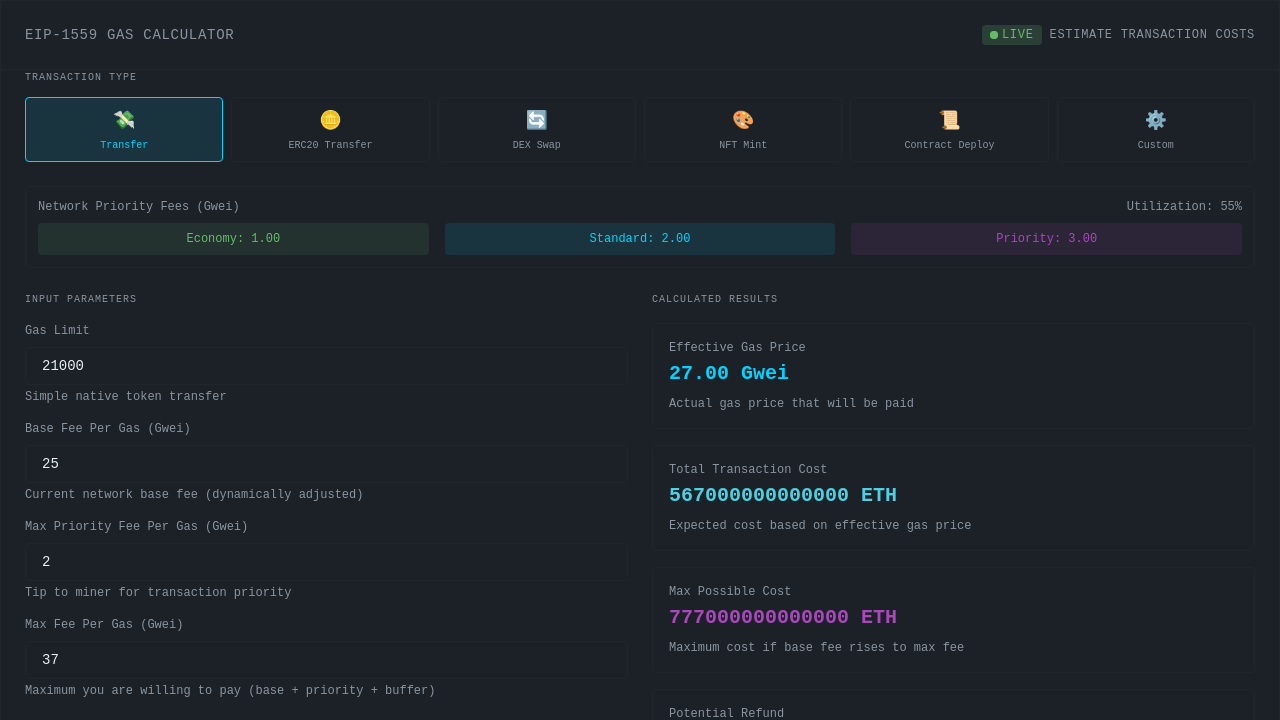
Test case: GasCalculator › User Interactions › switches gas limit when selecting ERC20 Transfer preset
Step 1. Click the button titled "Token transfer" → point(330, 130), box top-left (231, 97), bottom-right (430, 162)
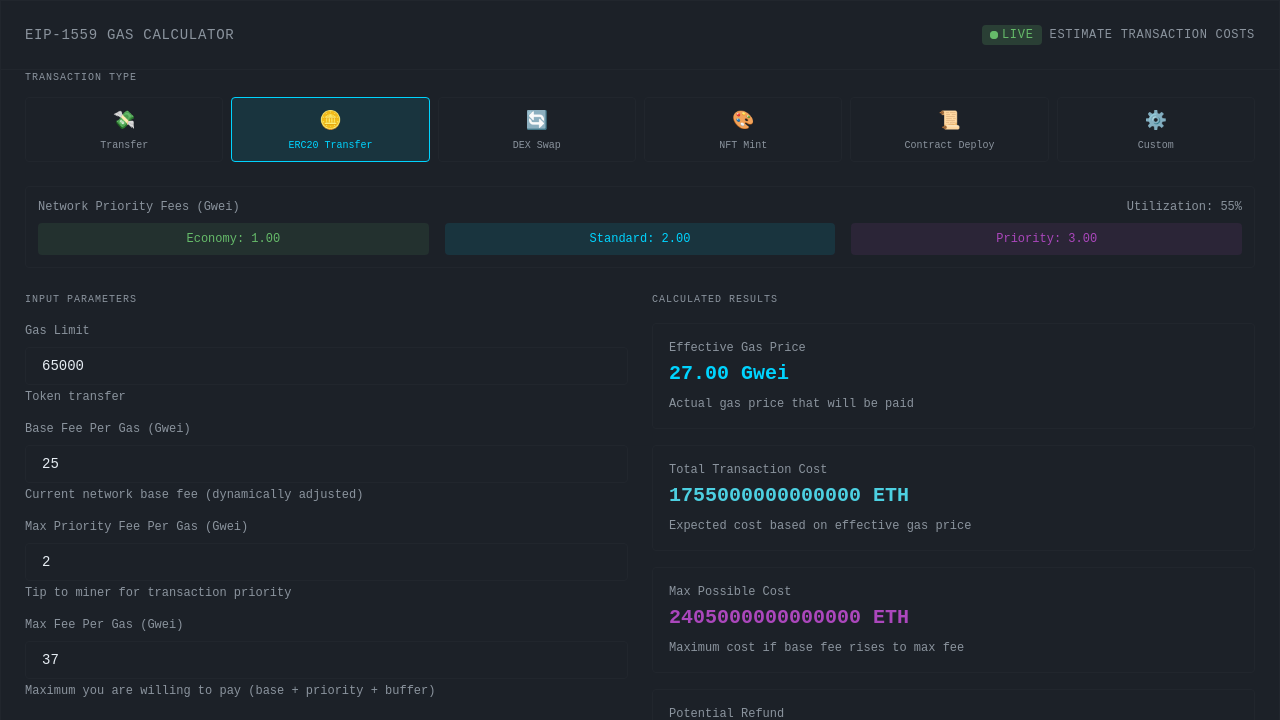
Now the number field labelled "Gas Limit" holds "65000", box top-left (25, 347), bottom-right (628, 385)
